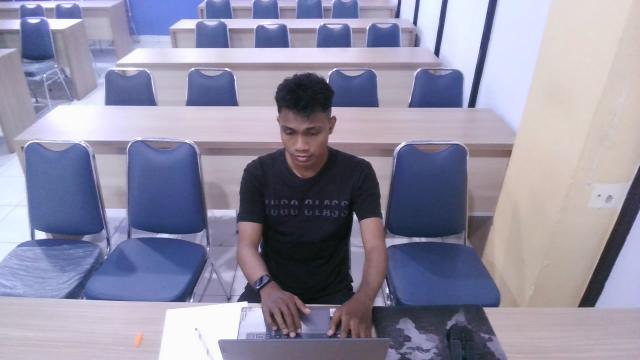Looking_Around: (212, 63, 401, 249)
